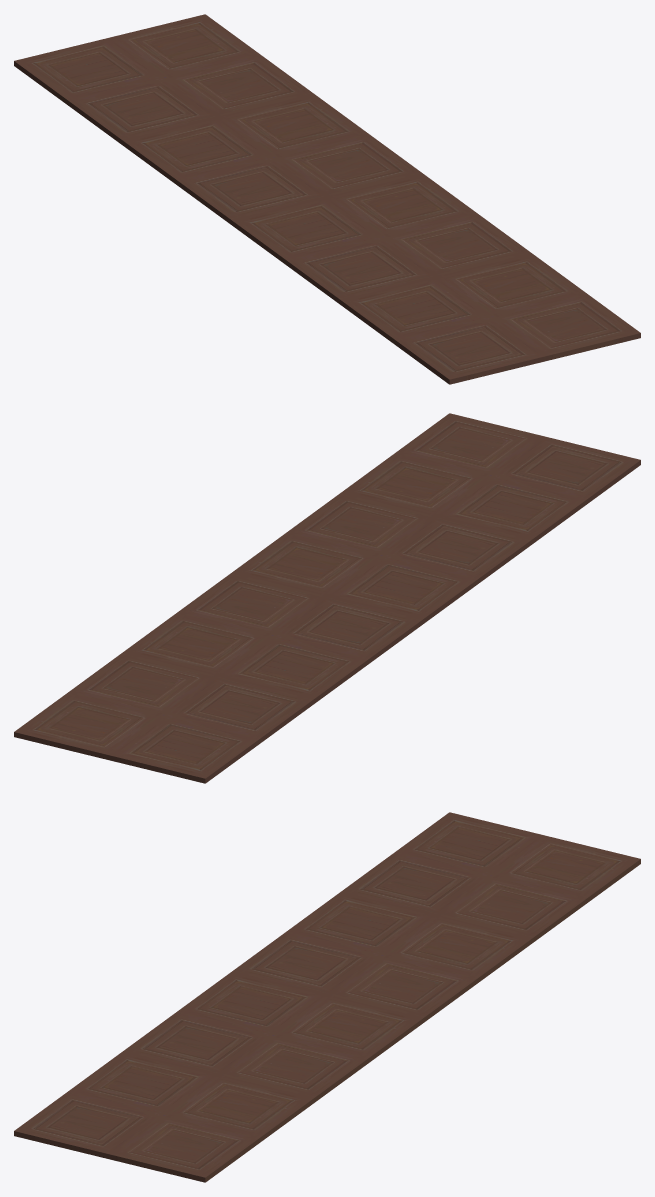
Rendered from Homeworld_Interior_Md_Room_O_Ceiling_01_Vo.fbx.
3 renders of one model, top to bottom at view 1: azimuth 30°, elevation 25°; view 2: azimuth 150°, elevation 25°; view 3: azimuth 330°, elevation 25°, orthographic.
Parts seen in each view (by area): view 1: Homeworld_Interior_Md_Room_O_Ceiling_01_Vo; view 2: Homeworld_Interior_Md_Room_O_Ceiling_01_Vo; view 3: Homeworld_Interior_Md_Room_O_Ceiling_01_Vo.
Part boxes in pixels (x1,y1,x2,y2): Homeworld_Interior_Md_Room_O_Ceiling_01_Vo: [14, 14, 640, 384]; Homeworld_Interior_Md_Room_O_Ceiling_01_Vo: [14, 413, 640, 783]; Homeworld_Interior_Md_Room_O_Ceiling_01_Vo: [14, 812, 640, 1182].
Bounding box in the file's own units: 5.1 × 0.1279 × 20.1.
